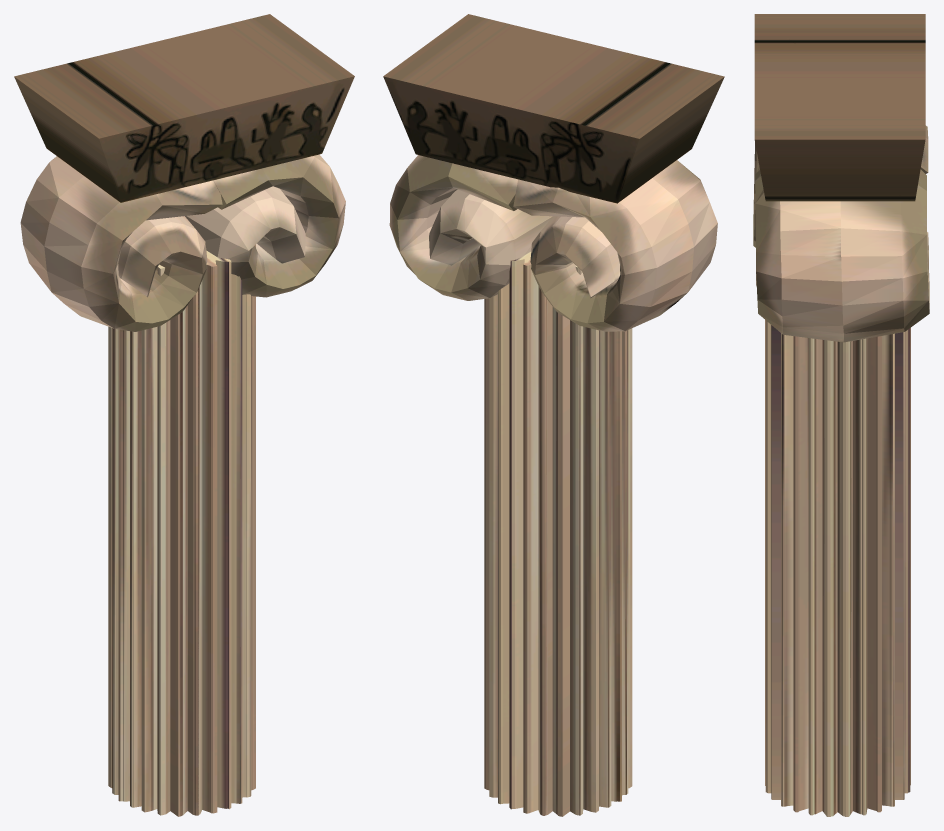
File: Columb3.glb
3 renders of one model, left to right at view 1: azimuth 30°, elevation 25°; view 2: azimuth 150°, elevation 25°; view 3: azimuth 270°, elevation 25°, orthographic.
Parts seen in each view (by area): view 1: Columb3; view 2: Columb3; view 3: Columb3.
Boxes of the visible parts, bbox=[...] form: Columb3: bbox=[14, 14, 354, 816]; Columb3: bbox=[383, 14, 724, 816]; Columb3: bbox=[753, 14, 929, 816].
Size of the model in its own units: 209 by 506 by 114.
Materials: 1 (1 with a texture image).
